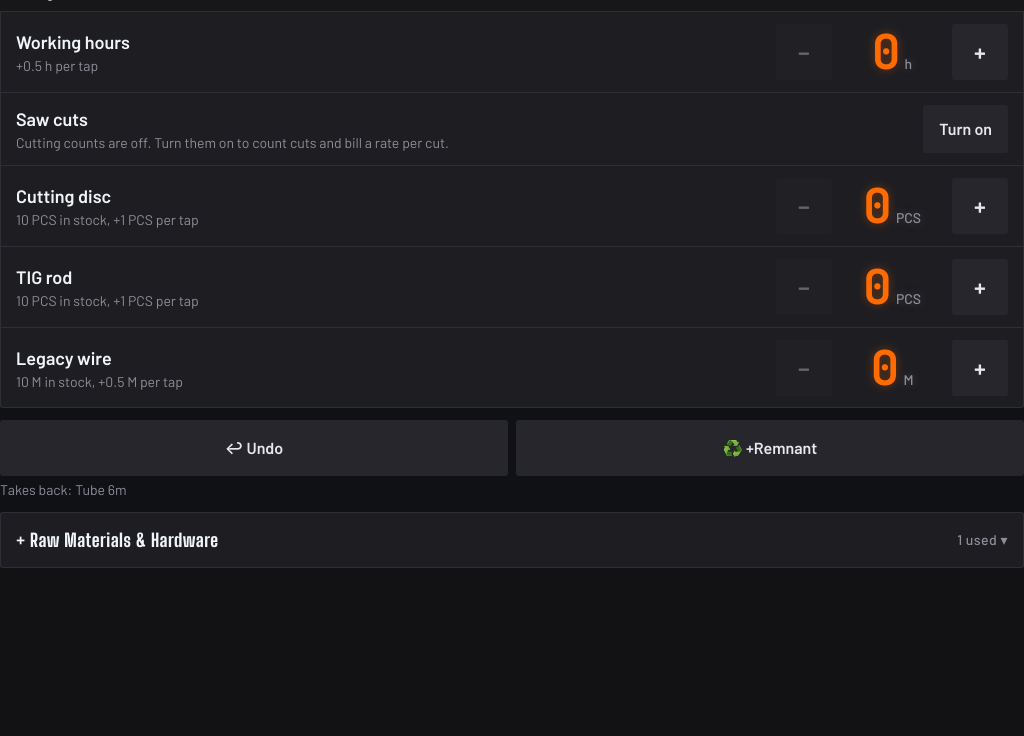
it: raw materials drawer › is collapsed by default and holds the RAW and HARDWARE items
This screenshot has width=1024, height=736.
Later steps or results of the test are not shown.
Click the button "+ Raw Materials & Hardware 1 used ▾": (117, 540) [0,512,1023,568]
(page scrolled)
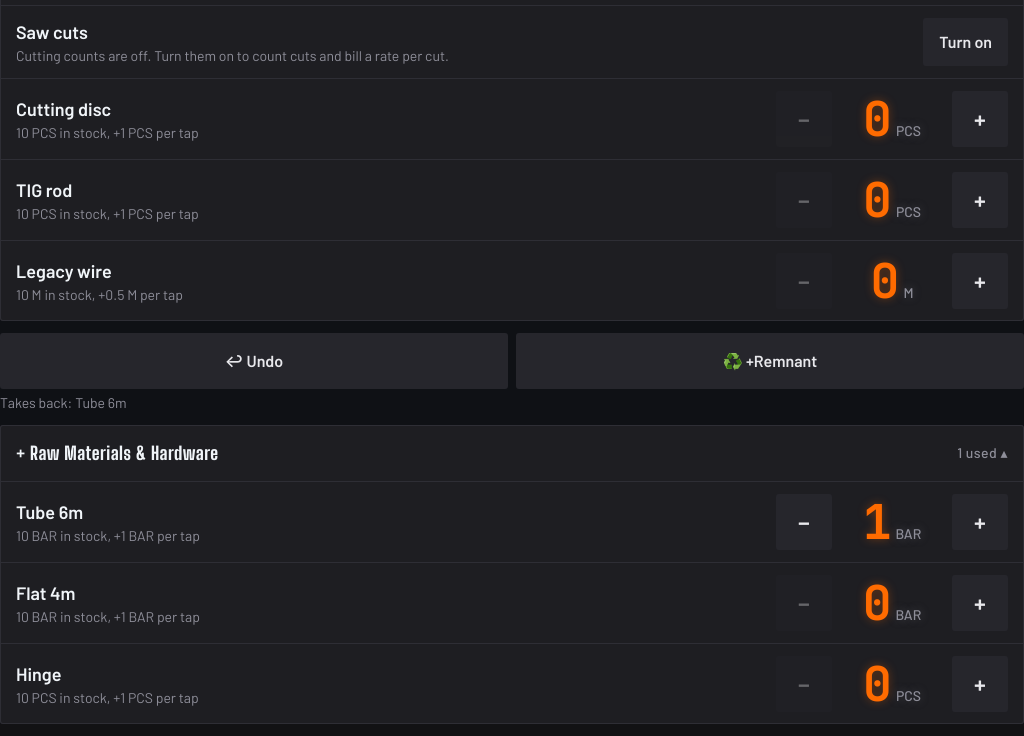
Expected: the button "+ Raw Materials & Hardware 1 used ▴" is expanded, [0,425,1023,481]
Expected: the button named "Add one step of Tube 6m" is shown, [952,494,1008,550]
Expected: the button named "Add one step of Hinge" is shown, [952,656,1008,712]
